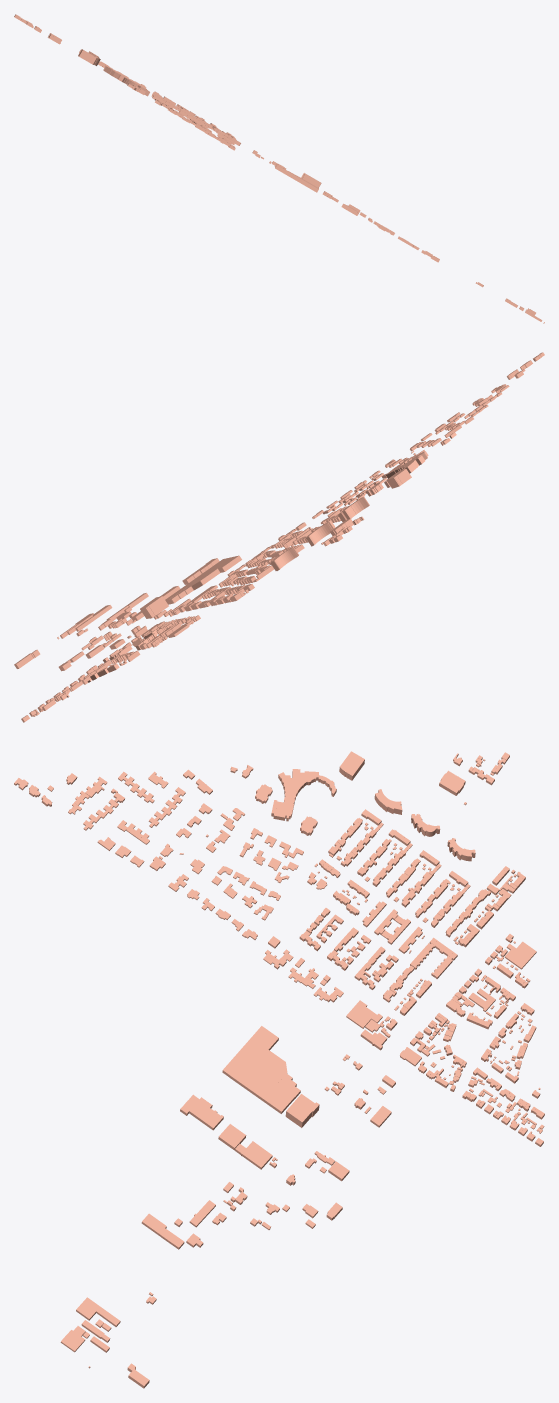
The picture shows the model from 3 angles, top to bottom: view 1: azimuth 30°, elevation 25°; view 2: azimuth 150°, elevation 25°; view 3: azimuth 270°, elevation 25°; orthographic projection. The views are drawn at different scales.
Size of the model in its own units: 1046 by 778 by 943.
